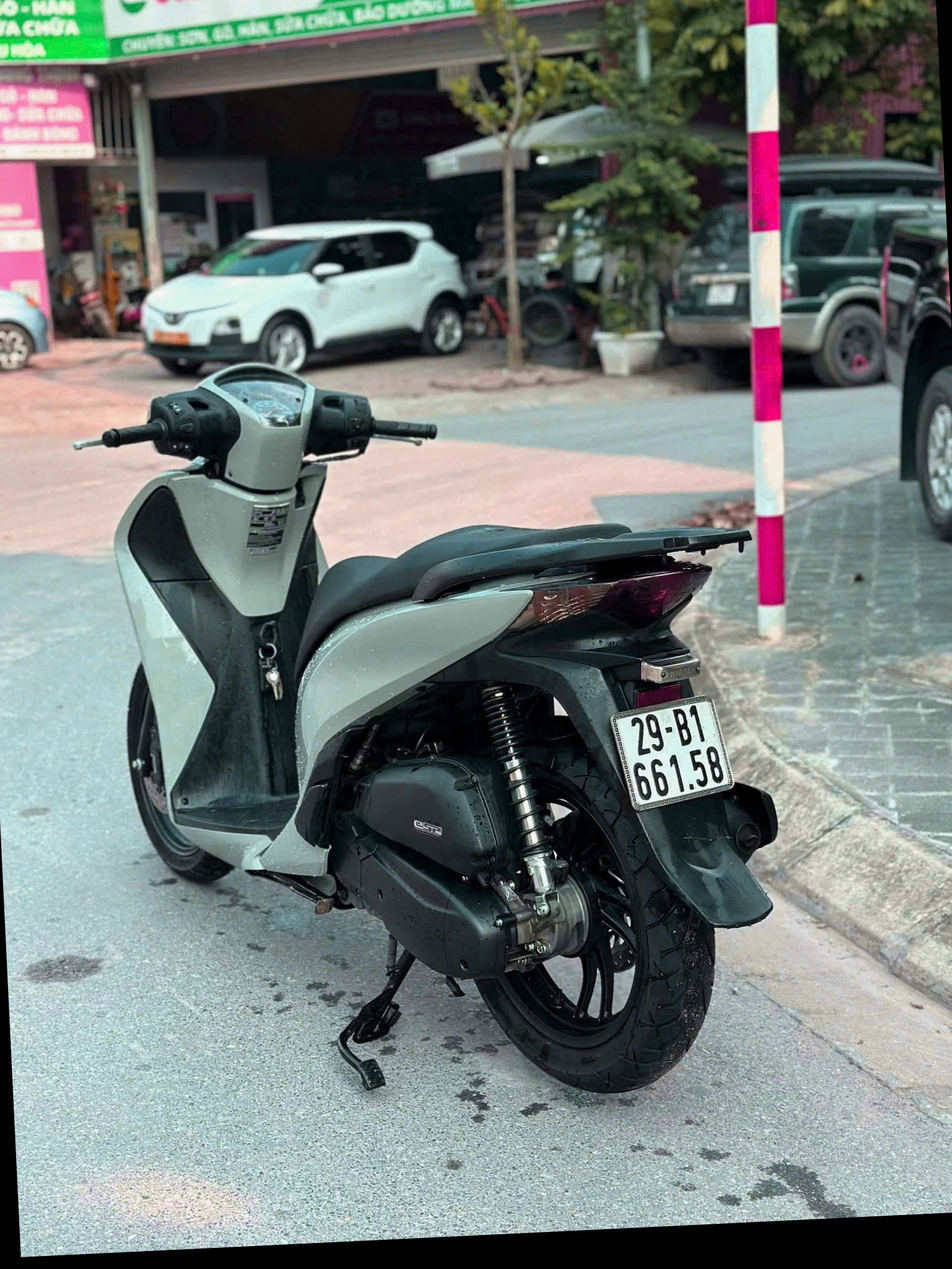Bien-so: (612, 728, 733, 843)
